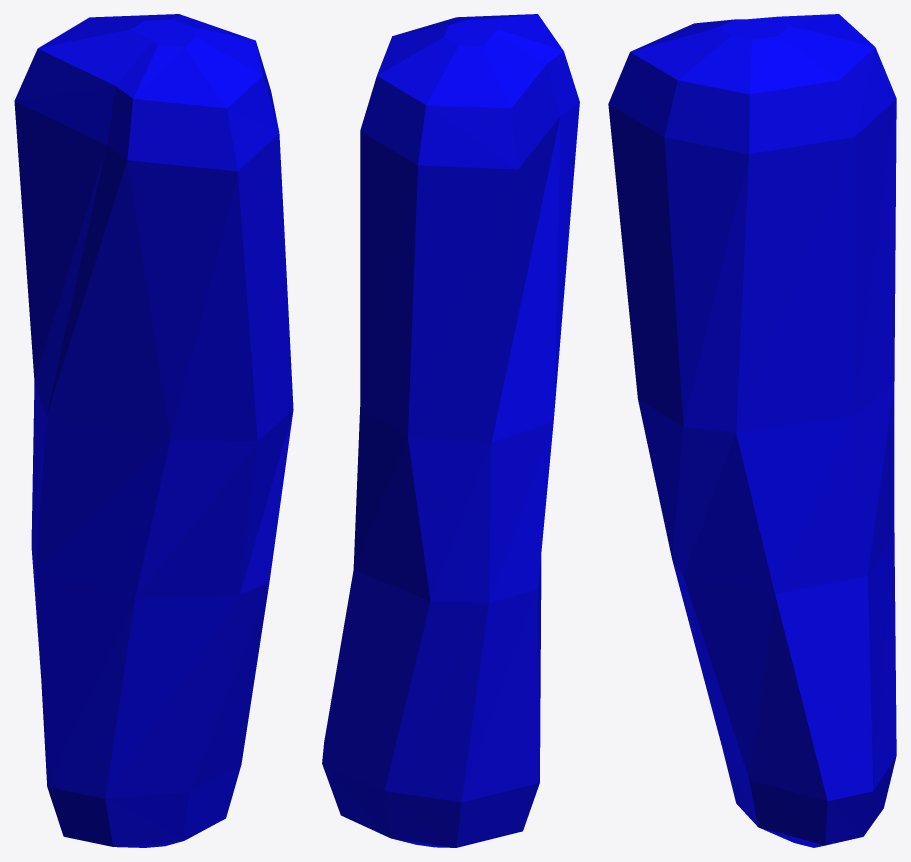
File: LShoulder3_mesh.dae
3 renders of one model, left to right at view 1: azimuth 30°, elevation 25°; view 2: azimuth 150°, elevation 25°; view 3: azimuth 270°, elevation 25°, orthographic. The views are drawn at different scales.
Visible parts, largest first — view 1: LShoulder3; view 2: LShoulder3; view 3: LShoulder3.
Part boxes in pixels (bbox=[...]): LShoulder3: bbox=[14, 14, 293, 847]; LShoulder3: bbox=[322, 14, 579, 847]; LShoulder3: bbox=[608, 14, 896, 847].
Bounding box in the file's own units: 0.1082 × 0.389 × 0.1274.
